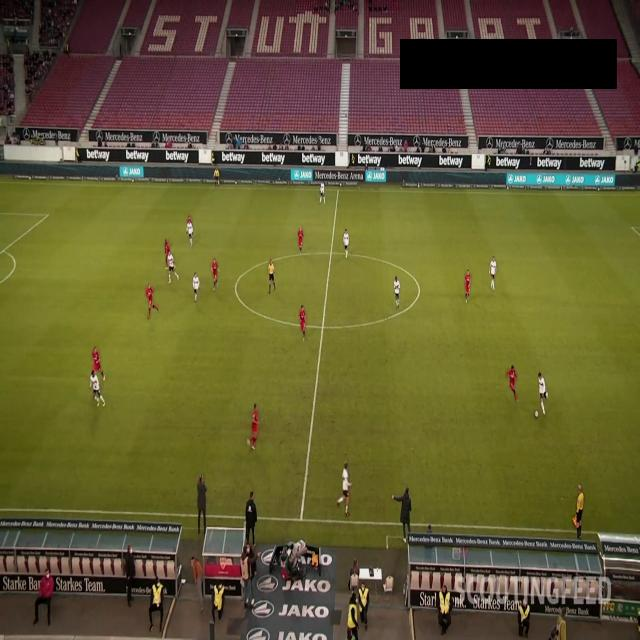f_player: (88, 368, 108, 412), (338, 464, 356, 511), (163, 240, 180, 284), (536, 372, 551, 419), (249, 400, 263, 448), (92, 344, 108, 382), (146, 284, 160, 320), (391, 275, 405, 309), (298, 304, 310, 342), (508, 366, 518, 404), (211, 258, 222, 290), (489, 256, 499, 290), (186, 218, 196, 248), (192, 274, 202, 304), (464, 274, 474, 304), (342, 229, 350, 259), (297, 228, 305, 252), (318, 183, 326, 205)
umpire: (572, 484, 584, 540), (266, 258, 276, 294), (215, 166, 222, 186)
